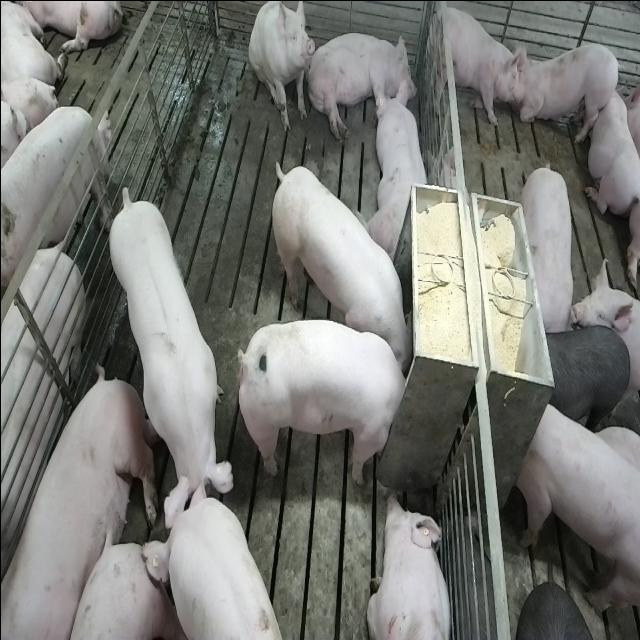Feeding: (266, 160, 412, 370), (232, 316, 408, 486)
Lateral_lying: (4, 366, 158, 640), (304, 29, 417, 140)
Sitting: (248, 1, 316, 133)
Standing: (104, 187, 231, 528), (0, 234, 87, 631), (516, 394, 638, 626), (0, 100, 110, 304), (138, 488, 284, 640), (430, 1, 524, 131), (512, 37, 619, 143), (519, 158, 575, 332), (542, 321, 628, 426)
Sternal_lying: (365, 488, 453, 640), (367, 81, 432, 263), (585, 75, 639, 215)
